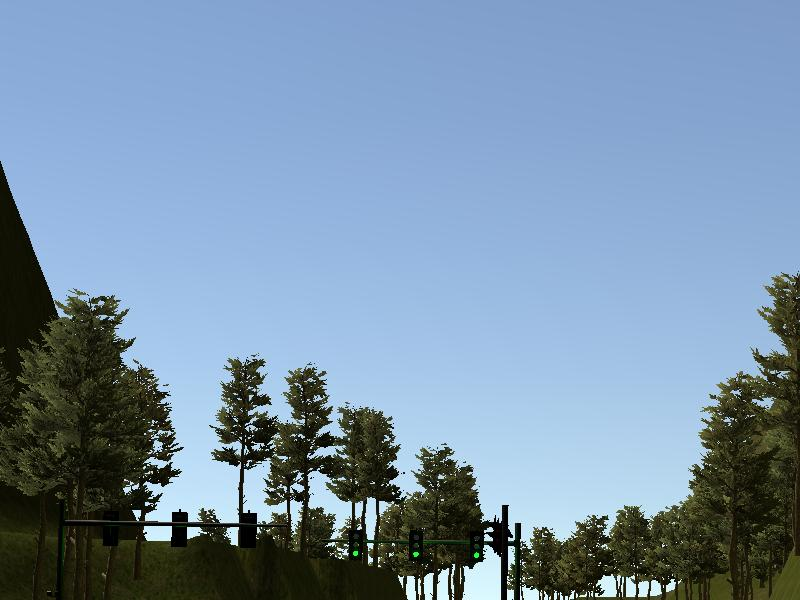Green: (468, 531, 483, 562), (409, 528, 423, 561), (348, 529, 362, 559)
